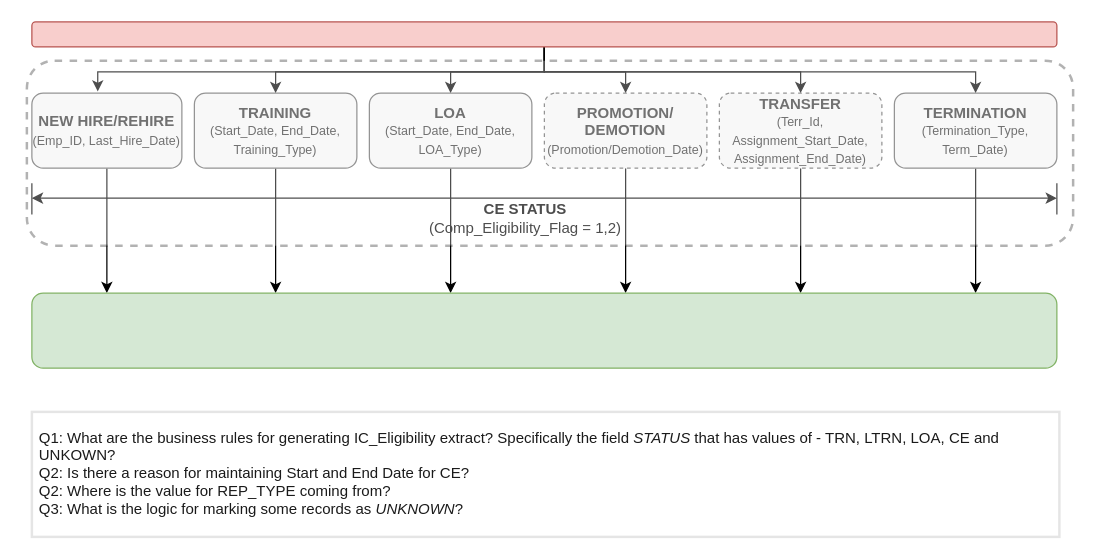
This 1096x560 diagram has some shape labels left out. Each missing label, with the box of its shape:
SalesIQ Roster Module - Used for generate IC extracts: (31, 292, 1057, 368)
SAP/Workday: (31, 21, 1057, 47)
